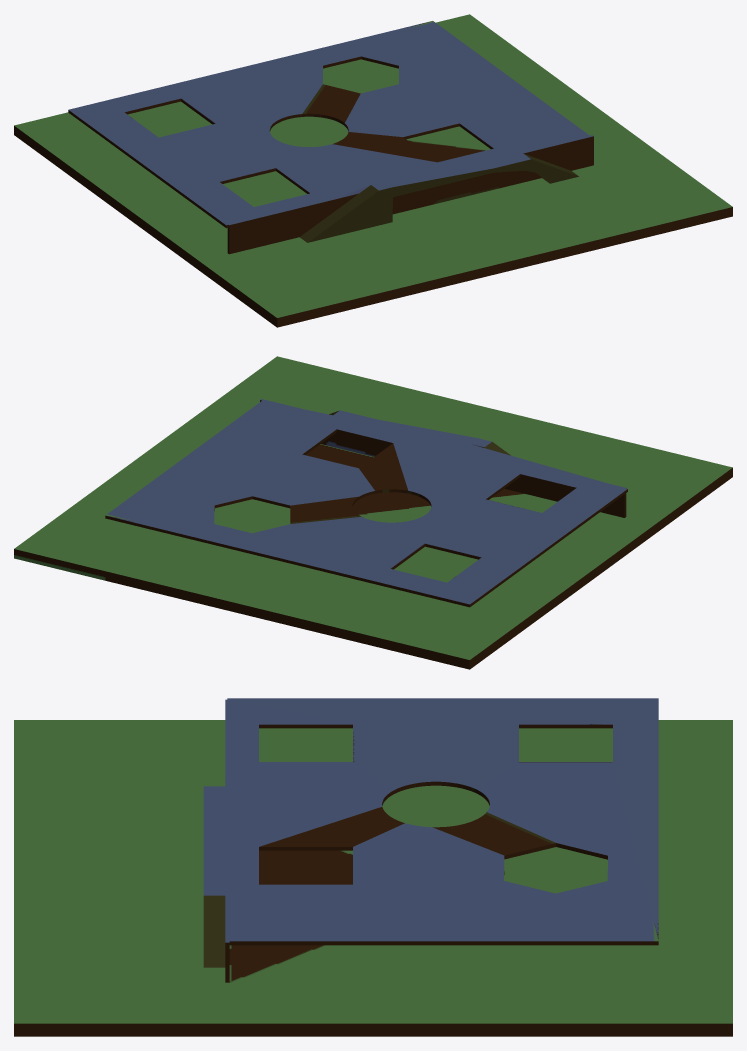
The model's file is ramp_house_test.gltf.
The picture shows the model from 3 angles, top to bottom: view 1: azimuth 30°, elevation 25°; view 2: azimuth 150°, elevation 25°; view 3: azimuth 270°, elevation 25°; orthographic projection. The views are drawn at different scales.
Visible parts, largest first — view 1: ramp_house_test-col; view 2: ramp_house_test-col; view 3: ramp_house_test-col.
Boxes of the visible parts, x1,y1,x2,y2 form: ramp_house_test-col: (14,14,732,327); ramp_house_test-col: (14,356,732,669); ramp_house_test-col: (14,698,732,1036).
Bounding box in the file's own units: 50 × 4.66 × 50.
1 material, 1 textured.
